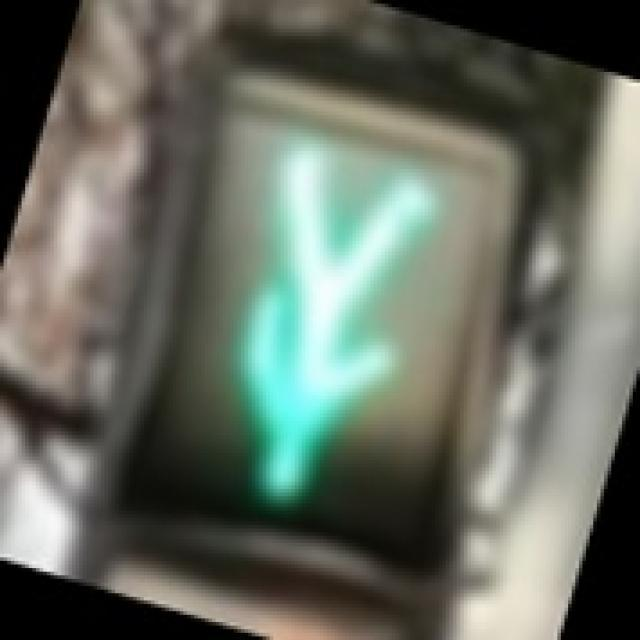geen-crossing: (100, 64, 532, 568)
